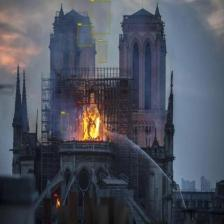fire: (78, 103, 102, 142), (54, 196, 60, 210)
smoke: (90, 1, 110, 34), (78, 25, 92, 46), (98, 41, 107, 63), (61, 114, 69, 132)
